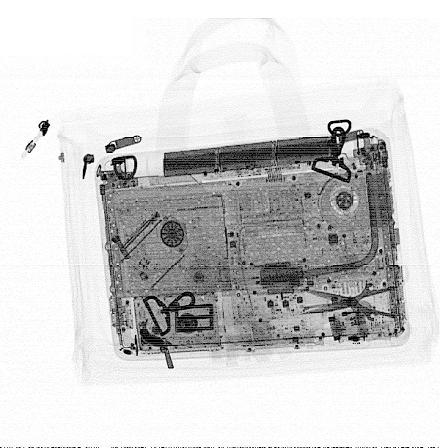Scissors: (292, 258, 404, 344)
